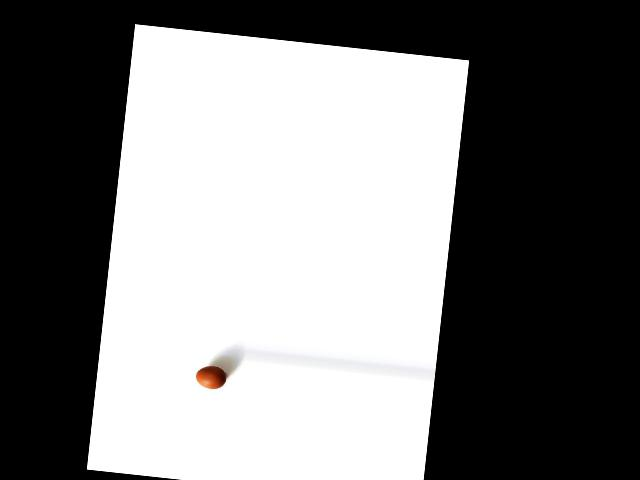egg: (194, 364, 227, 390)
